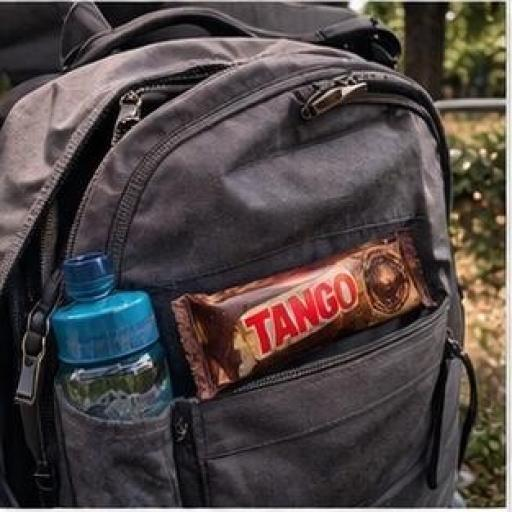tango: (144, 238, 472, 431)
